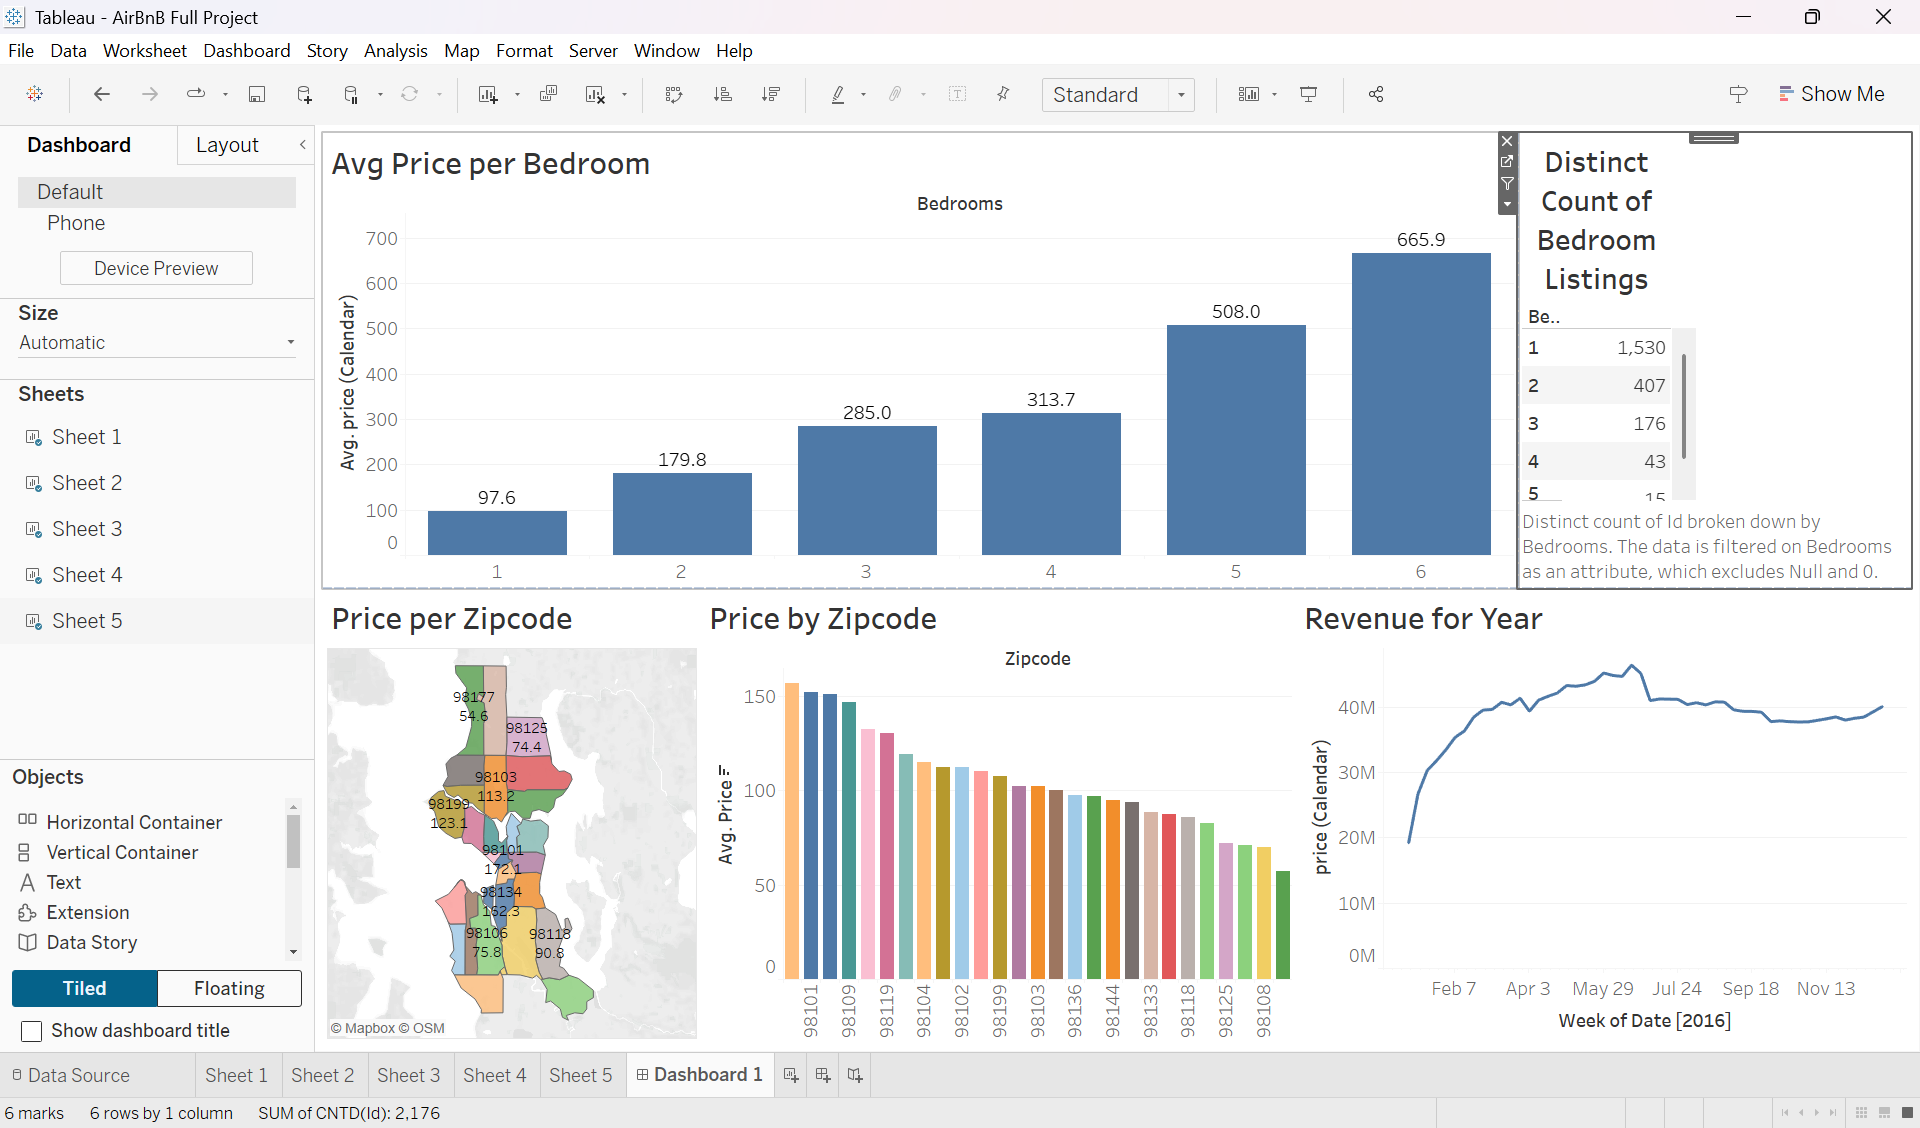

The page's visual inventory and layout, read from the dashboard file:
{"tool":"tableau","page":{"name":"Dashboard 1","canvas":[1000,1000],"units":"permille","ordinal":0},"visuals":[{"type":"worksheet","title":"Sheet 4","mark":"Automatic","rows":["price (Calendar)"],"cols":["bedrooms"],"box":[5,8.6,776.2,491.4]},{"type":"worksheet","title":"Sheet 5","mark":"Automatic","rows":["bedrooms"],"box":[781.2,8.6,213.8,491.4]},{"type":"worksheet","title":"Sheet 2","mark":"Multipolygon","box":[5,500,235.7,491.4]},{"type":"worksheet","title":"Sheet 1","mark":"Automatic","rows":["price"],"cols":["zipcode"],"box":[240.7,500,370.9,491.4]},{"type":"worksheet","title":"Sheet 3","mark":"Automatic","rows":["price (Calendar)"],"cols":["date"],"box":[611.6,500,383.4,491.4]}]}

Visuals, with their boxes on the dashboard's canvas, which has no fixed pixel size, in thousandths of its width and height (x1, y1, x2, y2). These are canvas units, not pixel positions in the 1920x1128 screenshot, which may show the page scaled, cropped or inside an application window:
"Sheet 4" worksheet: [left=5, top=9, right=781, bottom=500]
"Sheet 5" worksheet: [left=781, top=9, right=995, bottom=500]
"Sheet 2" worksheet (Multipolygon marks): [left=5, top=500, right=241, bottom=991]
"Sheet 1" worksheet: [left=241, top=500, right=612, bottom=991]
"Sheet 3" worksheet: [left=612, top=500, right=995, bottom=991]
